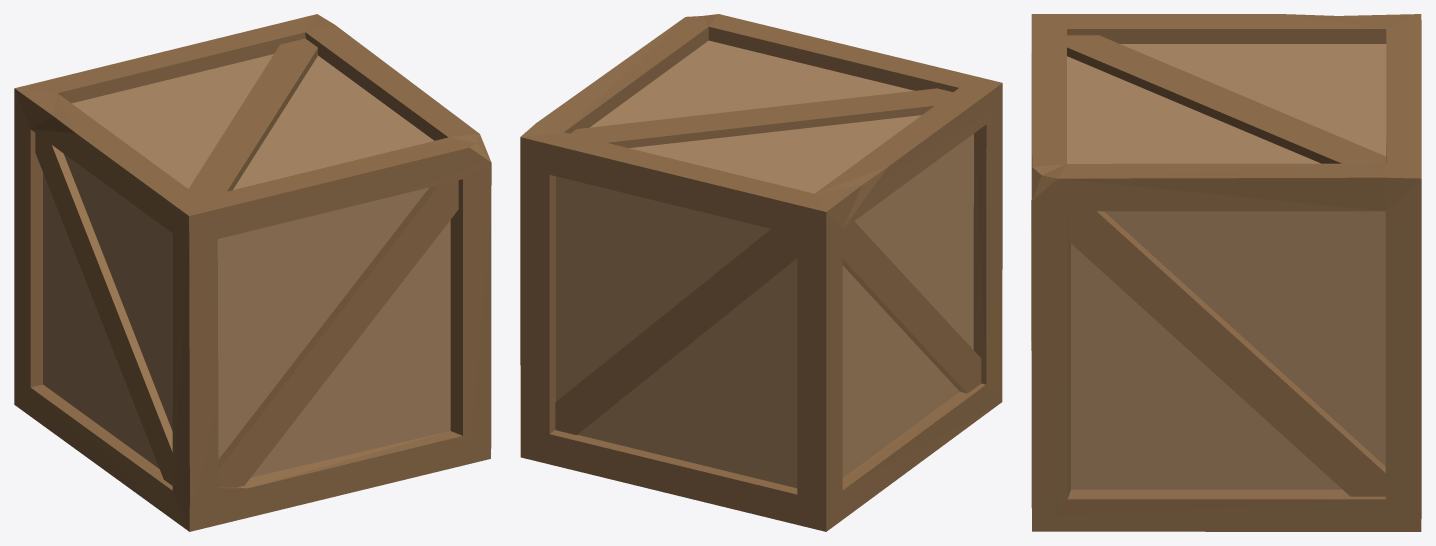
3 views of the same model, side by side, from view 1: azimuth 30°, elevation 25°; view 2: azimuth 150°, elevation 25°; view 3: azimuth 270°, elevation 25° (orthographic). The views are drawn at different scales.
Visible parts, largest first — view 1: Box_01; view 2: Box_01; view 3: Box_01.
Boxes of the visible parts, x1,y1,x2,y2 form: Box_01: (14, 14, 491, 531); Box_01: (520, 14, 1002, 531); Box_01: (1031, 14, 1421, 531).
Bounding box in the file's own units: 0.9163 × 0.9166 × 0.9132.
1 material, 1 textured.
